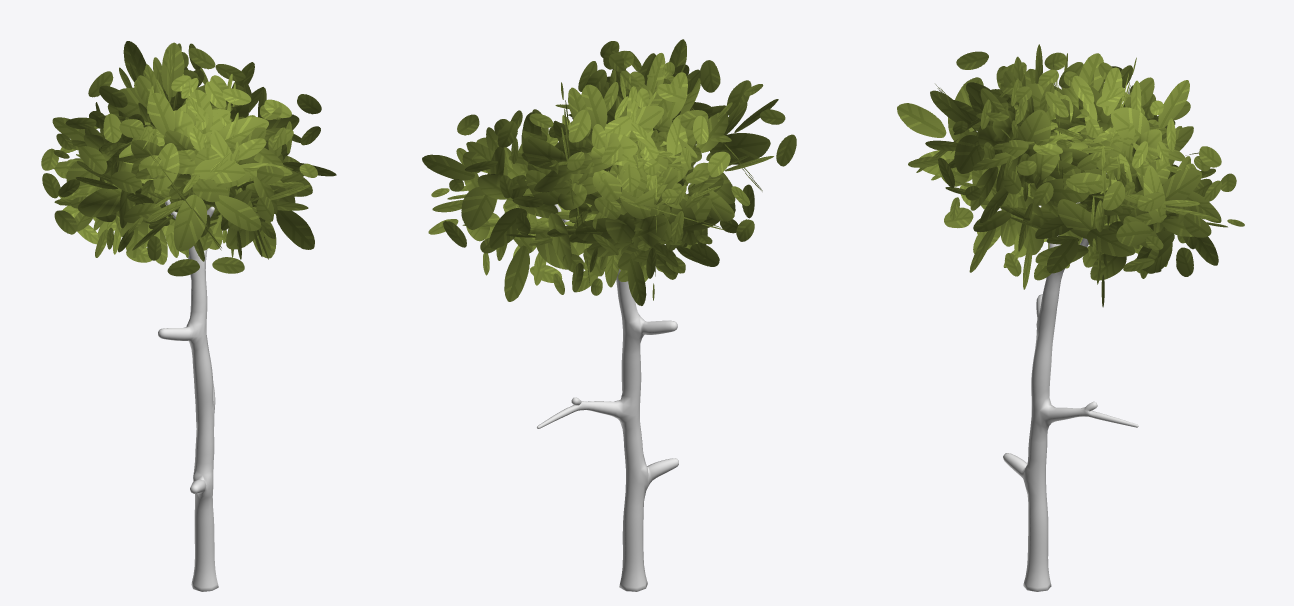
The model's file is arvore_3.fbx.
3 views of the same model, side by side, from view 1: azimuth 30°, elevation 25°; view 2: azimuth 150°, elevation 25°; view 3: azimuth 270°, elevation 25° (orthographic). The views are drawn at different scales.
Visible parts, largest first — view 1: copa_3, tronco_3; view 2: copa_3, tronco_3; view 3: copa_3, tronco_3.
Part boxes in pixels (left/top/right/bottom): copa_3: left=41, top=41, right=336, bottom=276; tronco_3: left=158, top=199, right=218, bottom=591; copa_3: left=422, top=39, right=796, bottom=305; tronco_3: left=537, top=204, right=678, bottom=591; copa_3: left=897, top=44, right=1244, bottom=307; tronco_3: left=1003, top=173, right=1138, bottom=591.
Bounding box in the file's own units: 947 × 1443 × 1014.
